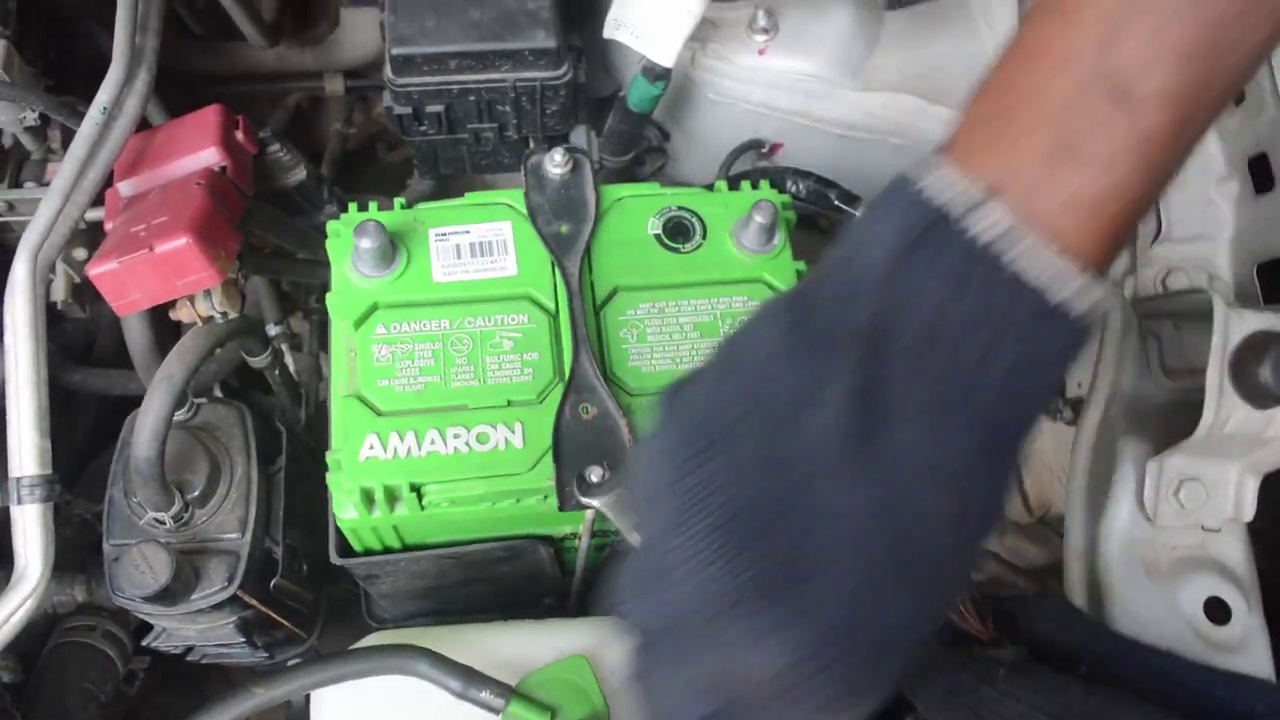battery: (319, 160, 806, 511)
pos_disconnected: (122, 117, 412, 323)
